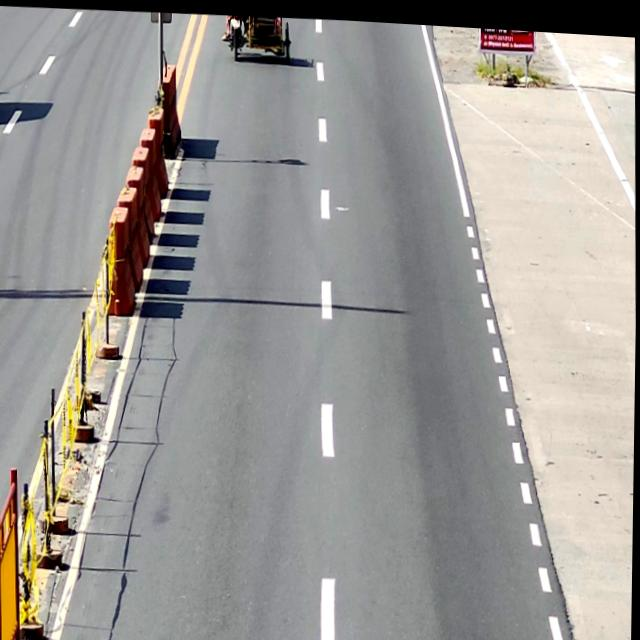Tricycle: (226, 11, 291, 62)
